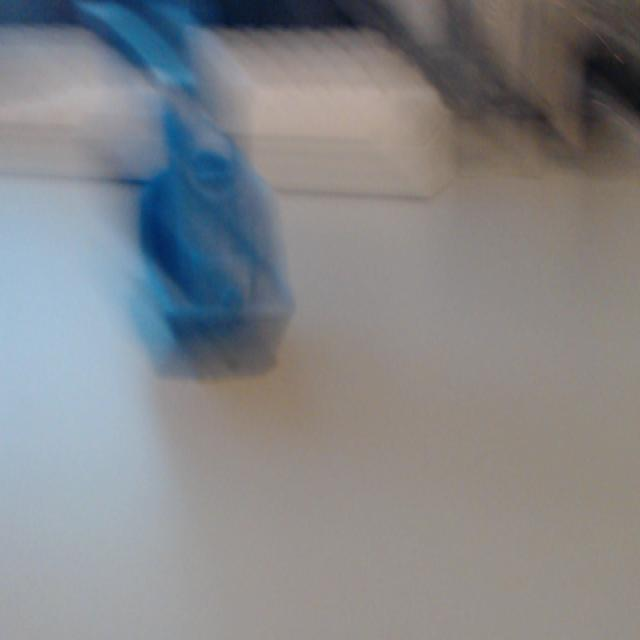benchy: (1, 1, 638, 636)
